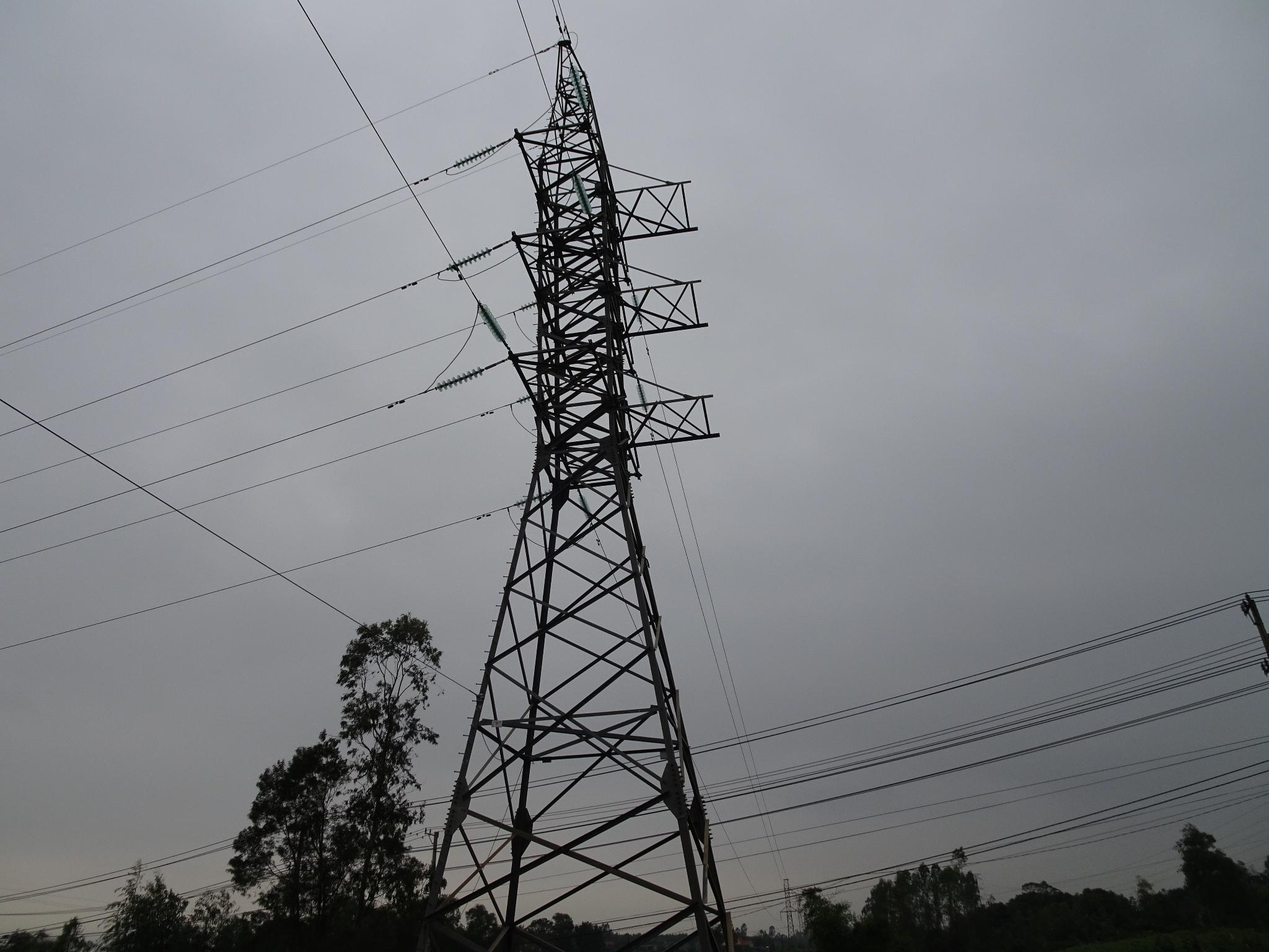tower: (399, 26, 759, 952)
